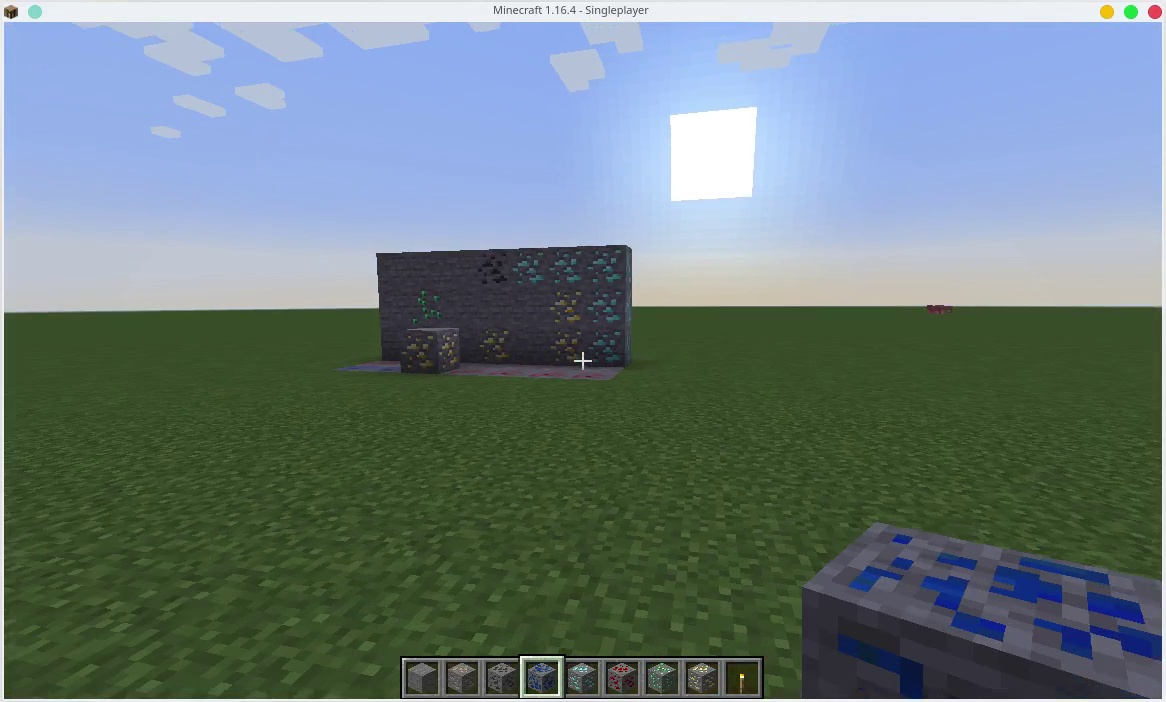gold: (407, 330, 458, 368), (548, 293, 590, 322), (688, 661, 725, 693), (475, 328, 517, 356), (550, 326, 581, 358)
